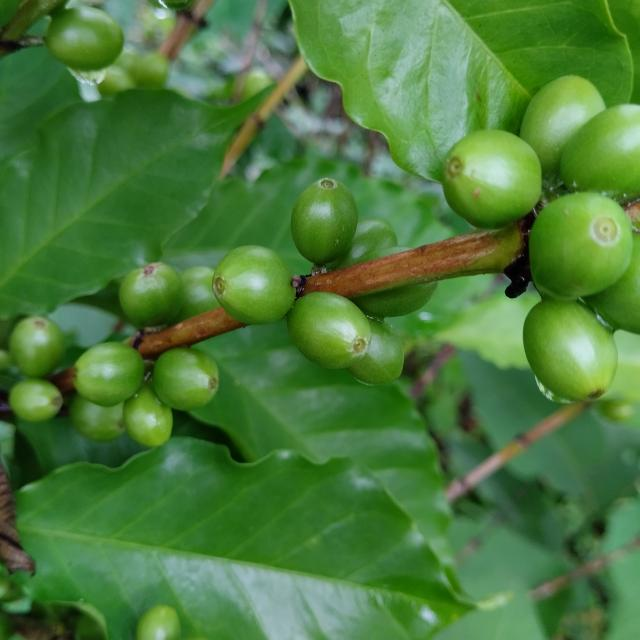green: (530, 192, 634, 299), (443, 130, 542, 229), (524, 300, 619, 401), (521, 75, 607, 178), (561, 104, 640, 203), (212, 245, 296, 324), (287, 292, 371, 369), (291, 178, 358, 267), (585, 233, 640, 334), (44, 4, 123, 69), (73, 342, 143, 407), (118, 262, 182, 328), (152, 348, 219, 411), (329, 218, 398, 270), (8, 317, 64, 378), (123, 384, 172, 448), (352, 282, 438, 318), (171, 266, 220, 324), (68, 395, 125, 442), (8, 379, 62, 422), (369, 246, 409, 259)
